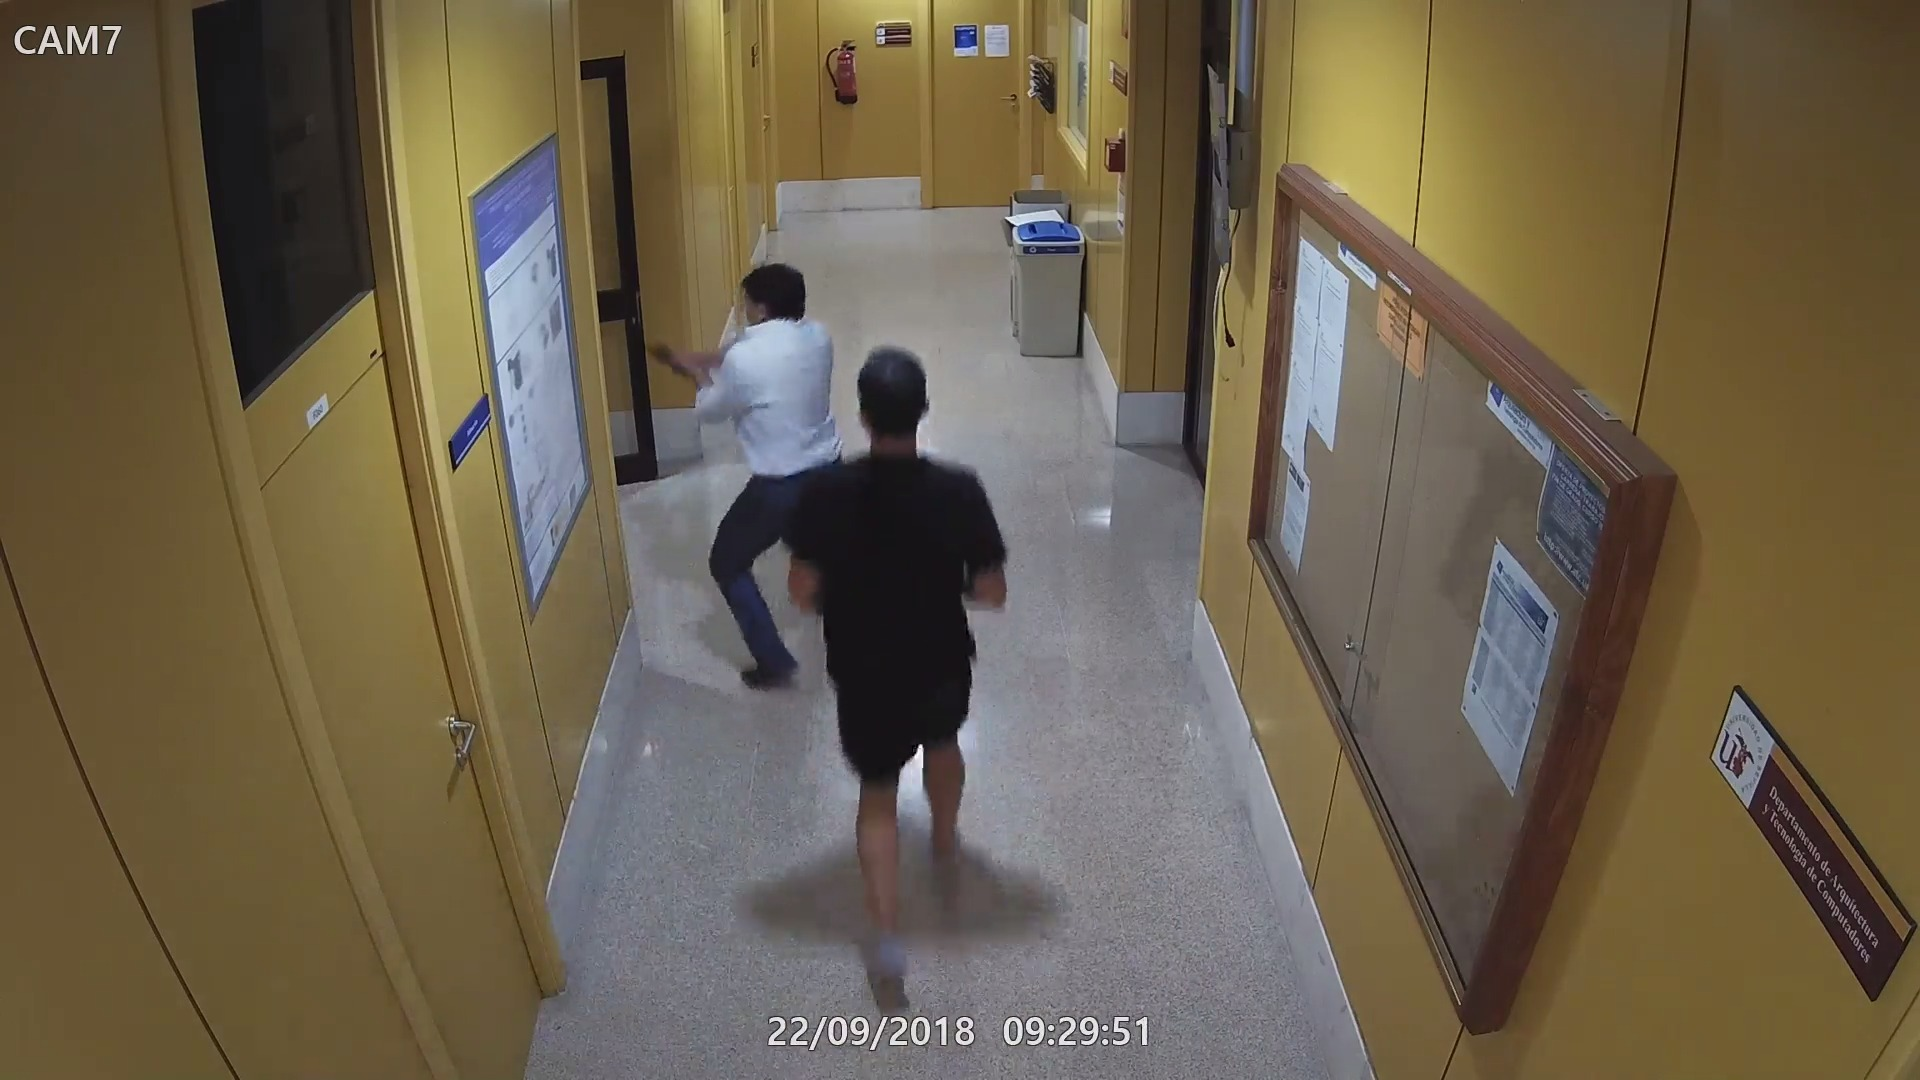Handgun: (645, 342, 703, 382)
